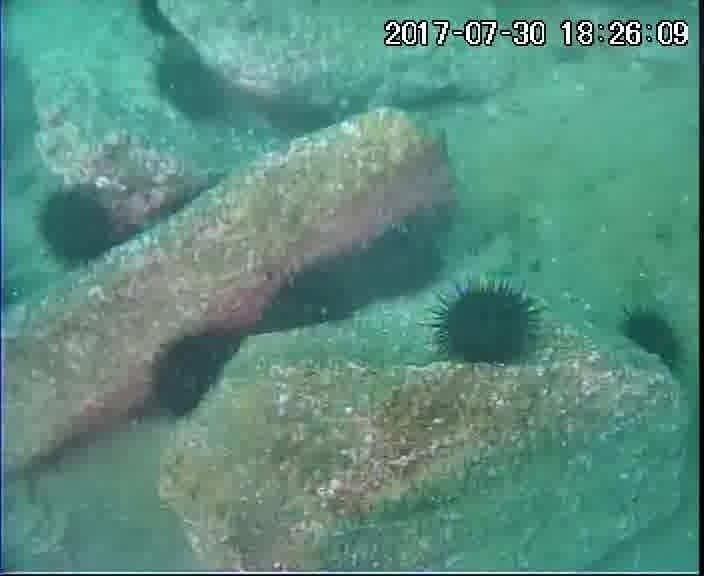echinus: (429, 277, 545, 371), (145, 325, 245, 423), (340, 221, 446, 309), (252, 262, 360, 339), (32, 182, 123, 270), (149, 44, 232, 126), (617, 306, 688, 377)
